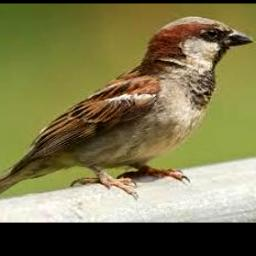Sparrow: (0, 15, 254, 199)
